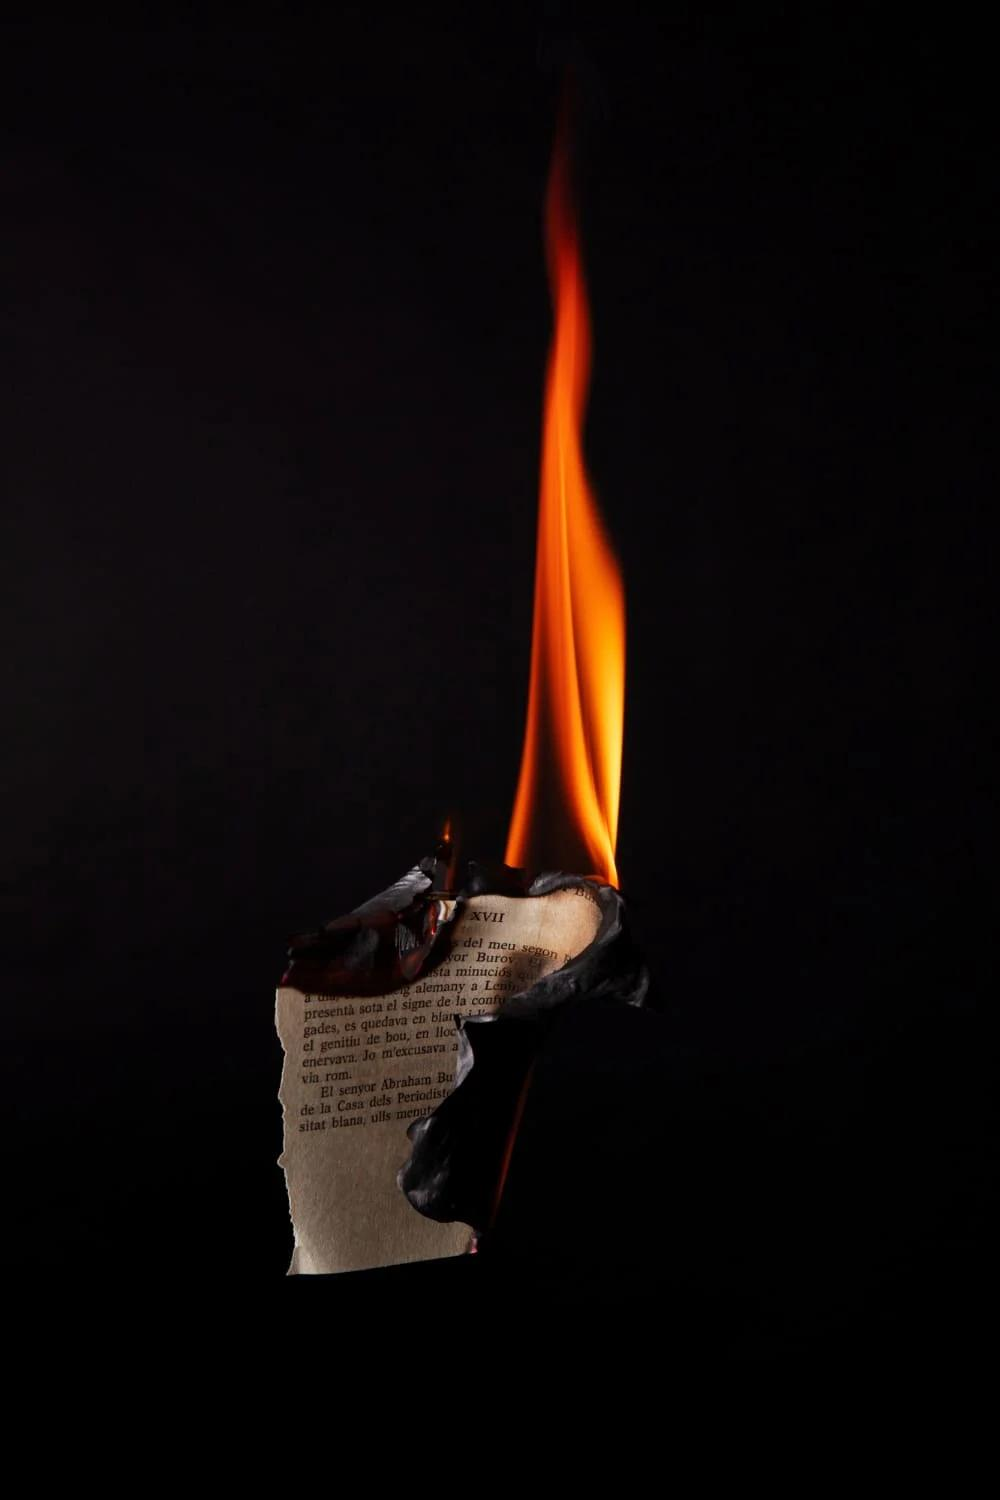Fire: (508, 161, 654, 887)
